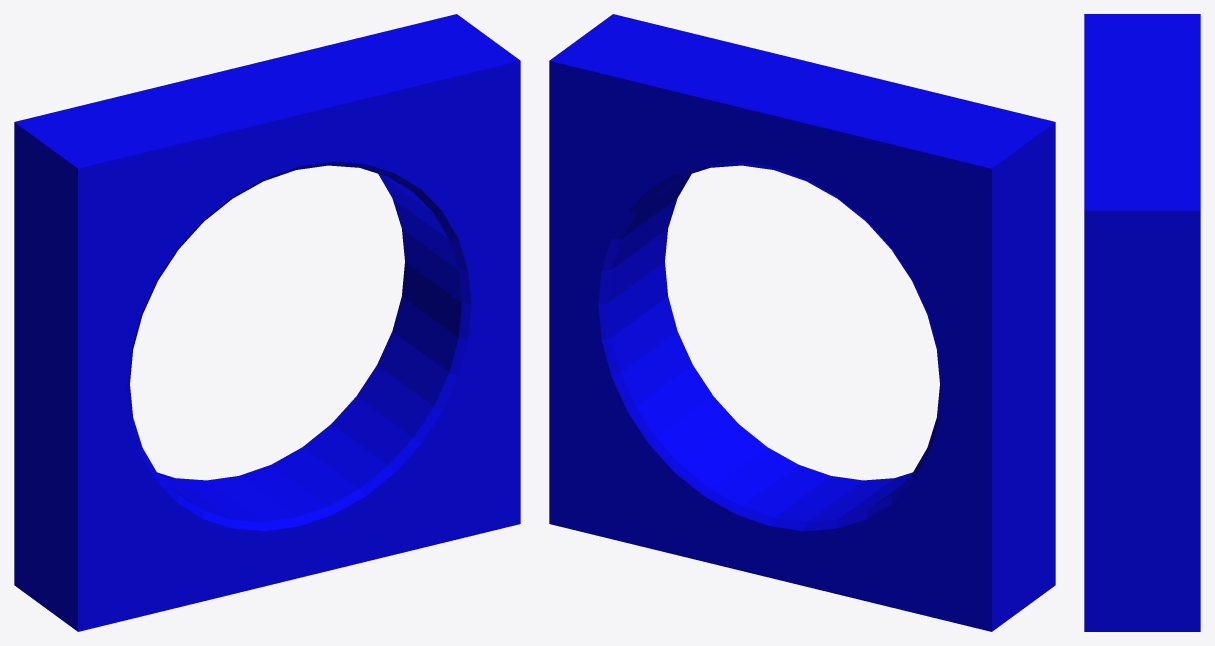
Rendered from WINDOW_CIRCLE.fbx.
3 renders of one model, left to right at view 1: azimuth 30°, elevation 25°; view 2: azimuth 150°, elevation 25°; view 3: azimuth 270°, elevation 25°, orthographic. The views are drawn at different scales.
Parts seen in each view (by area): view 1: WINDOW_CIRCLE; view 2: WINDOW_CIRCLE; view 3: WINDOW_CIRCLE.
Boxes of the visible parts, x1,y1,x2,y2 form: WINDOW_CIRCLE: (14, 14, 520, 631); WINDOW_CIRCLE: (549, 14, 1055, 631); WINDOW_CIRCLE: (1084, 14, 1200, 631).
Bounding box in the file's own units: 400 × 400 × 100.
